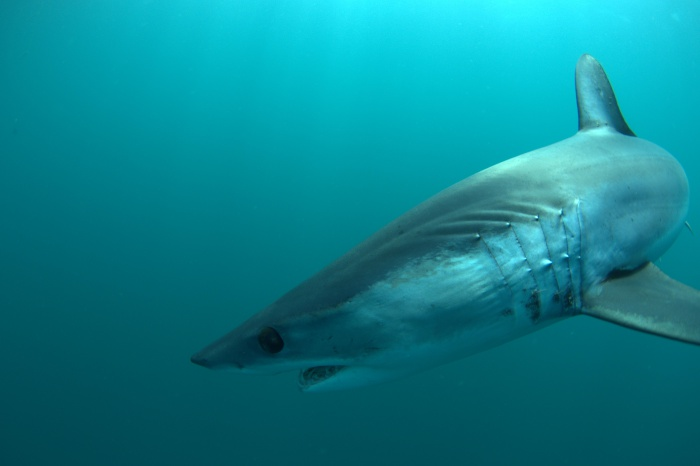Mako: (188, 48, 700, 425)
